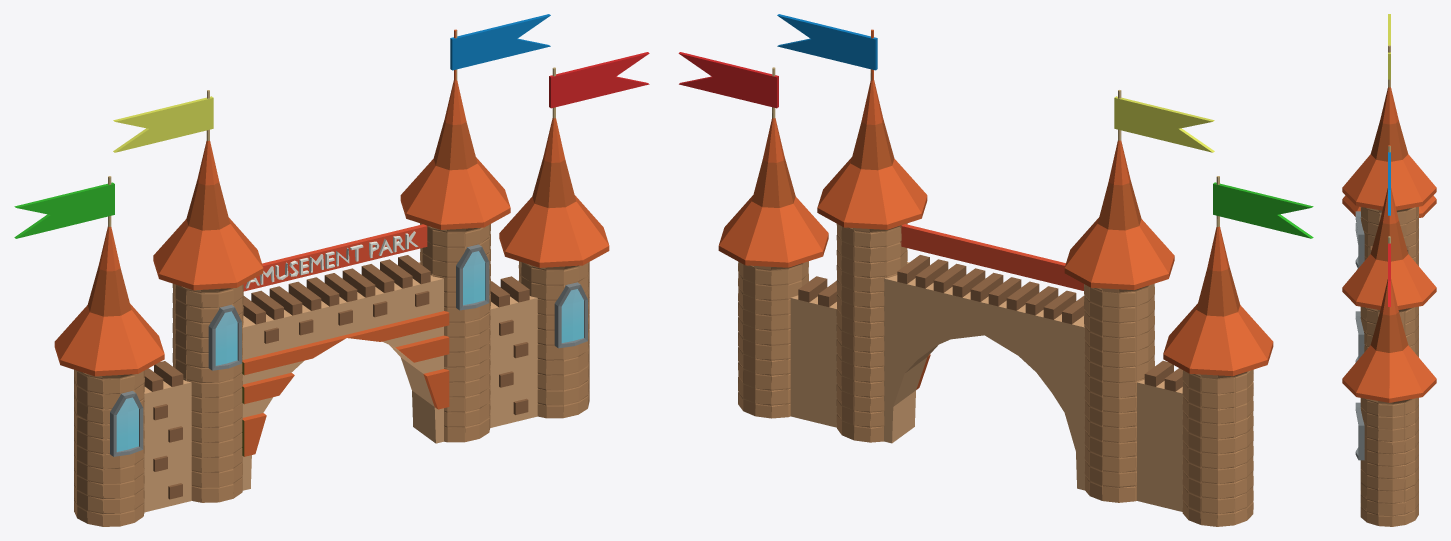
Rendered from Park_Entrance.fbx.
The picture shows the model from 3 angles, left to right: view 1: azimuth 30°, elevation 25°; view 2: azimuth 150°, elevation 25°; view 3: azimuth 270°, elevation 25°; orthographic projection. The views are drawn at different scales.
Parts seen in each view (by area): view 1: Park_Entrance; view 2: Park_Entrance; view 3: Park_Entrance.
Part boxes in pixels (x1,y1,x2,y2): Park_Entrance: (14,14,649,526); Park_Entrance: (678,14,1313,526); Park_Entrance: (1342,14,1436,526).
Bounding box in the file's own units: 1284 × 769 × 200.
